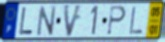1: (89, 5, 99, 37)
L: (128, 6, 144, 36), (18, 6, 34, 36)
N: (36, 5, 57, 37)
P: (106, 5, 128, 37)
V: (62, 3, 84, 38)
